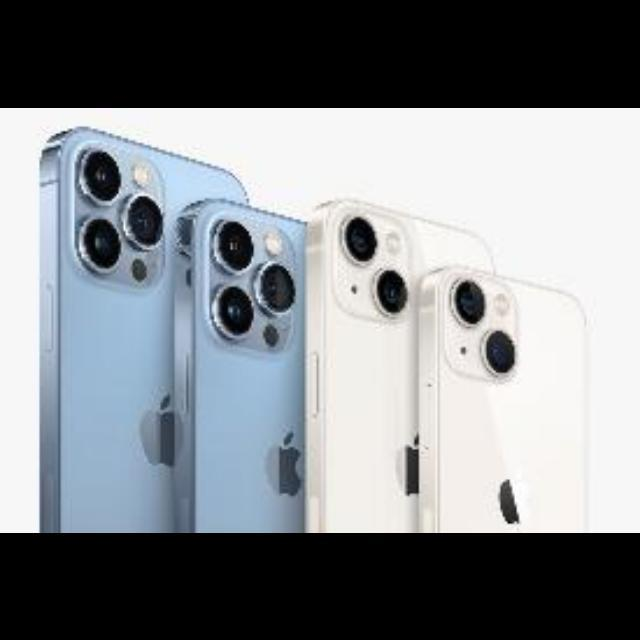Phone: (44, 128, 174, 532), (417, 270, 589, 532), (178, 195, 302, 532), (306, 194, 416, 532)
